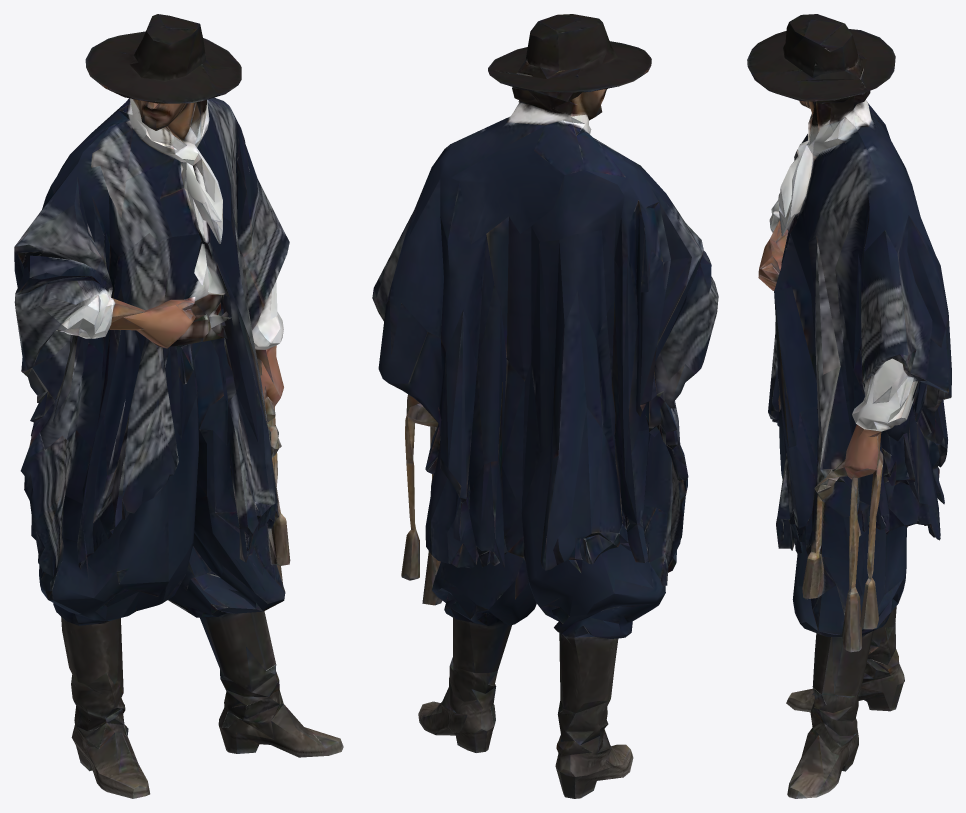
File: criollo.glb
3 renders of one model, left to right at view 1: azimuth 30°, elevation 25°; view 2: azimuth 150°, elevation 25°; view 3: azimuth 270°, elevation 25°, orthographic. The views are drawn at different scales.
Size of the model in its own units: 0.825 by 1.9 by 0.4995.
1 material, 1 textured.
